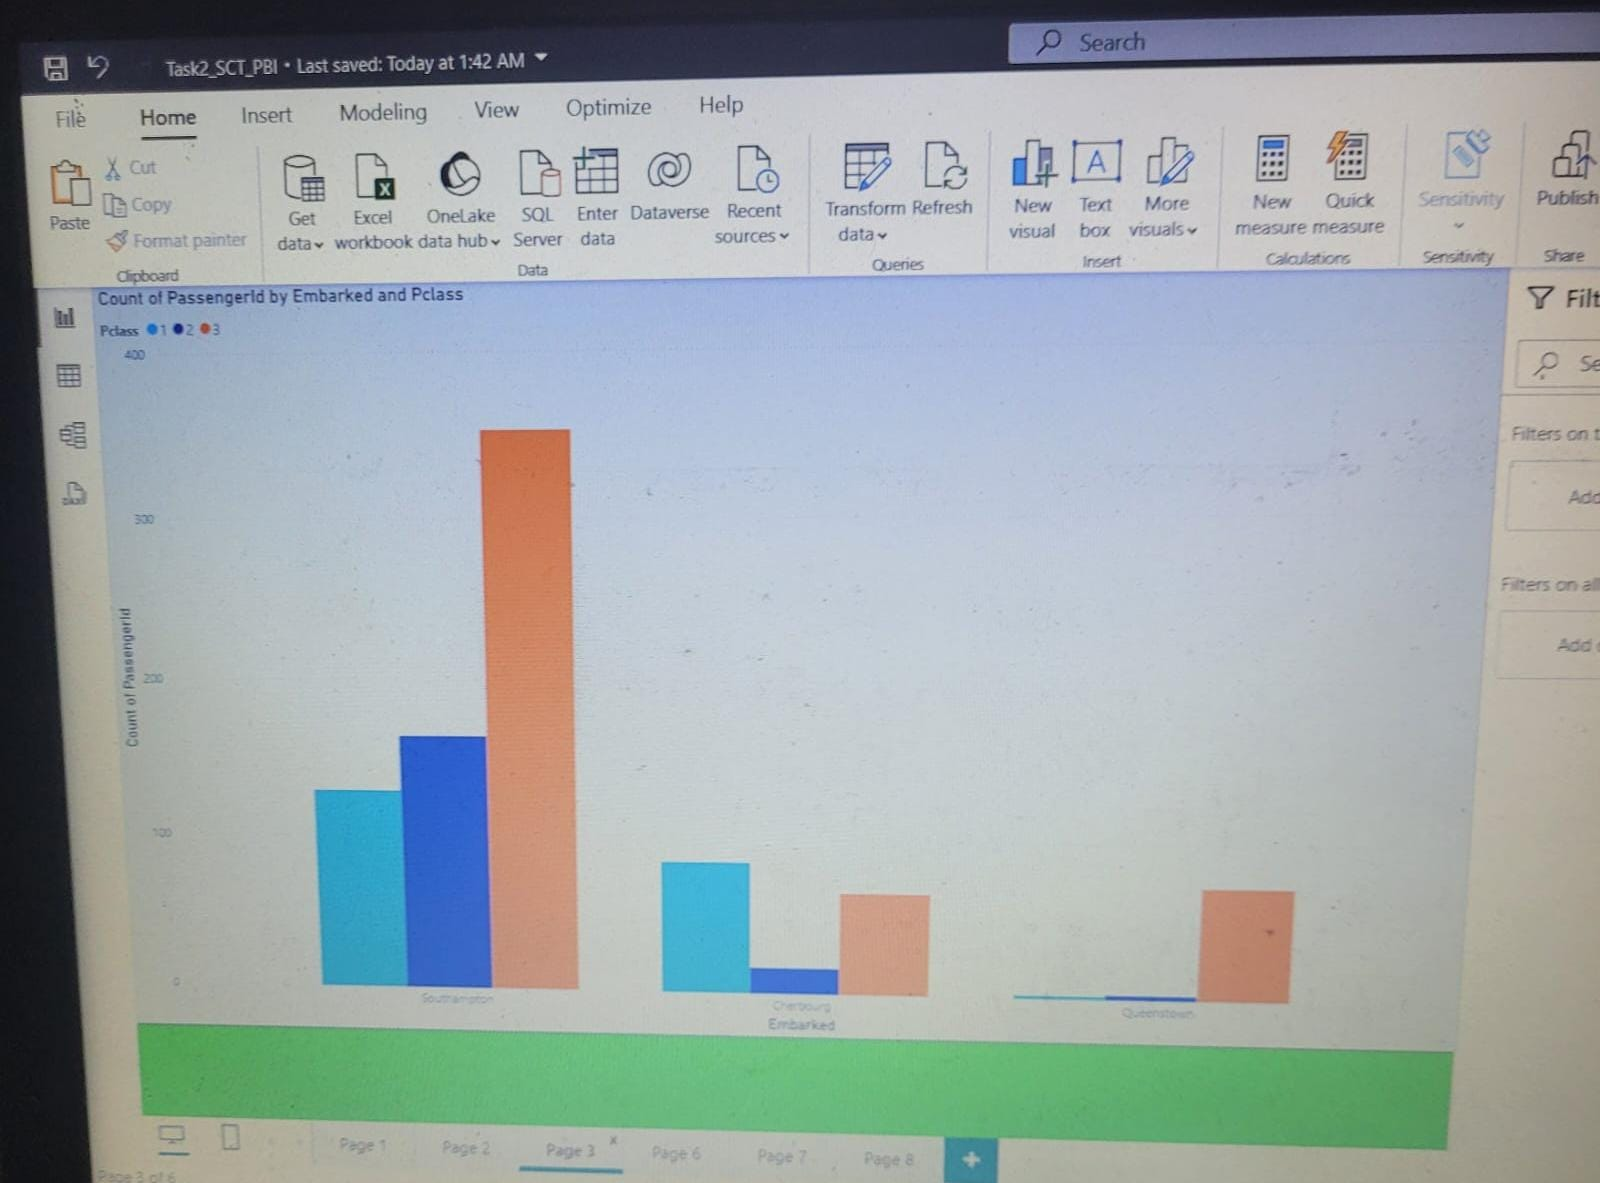

What the dashboard file says about the page in this screenshot:
{"tool":"powerbi","page":{"name":"Page 3","canvas":[1280,720],"ordinal":2},"visuals":[{"type":"clusteredColumnChart","fields":{"Category":["train.Embarked"],"Y":["CountNonNull(train.PassengerId)"],"Series":["train.Pclass"]},"box":[0,0,1280.3,720.4],"z":0}]}

Visuals, with their boxes on the page's 1280x720 design canvas (x1, y1, x2, y2). These are canvas units, not pixel positions in the 1600x1183 screenshot, which may show the page scaled, cropped or inside an application window:
clusteredColumnChart - train.Embarked x CountNonNull(train.PassengerId): box=[0, 0, 1280, 720]
